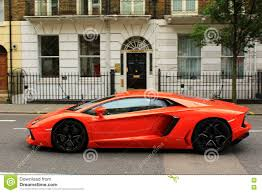Lamborghini: (35, 96, 249, 150)
